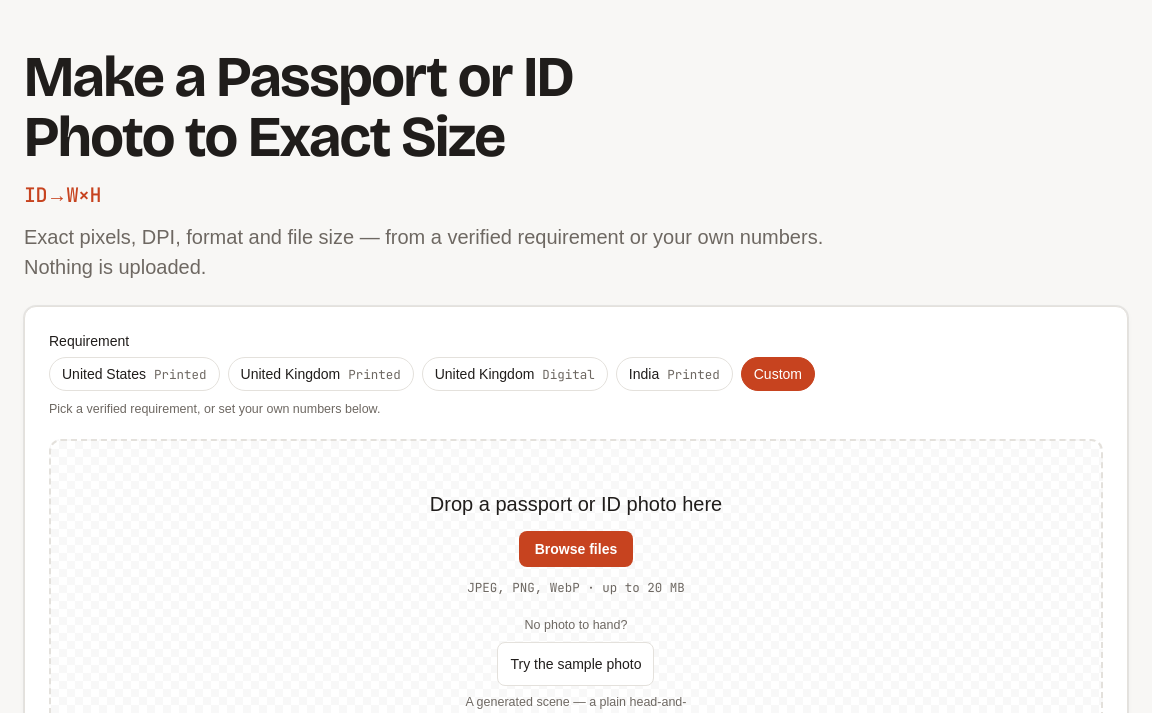
Test: the preset chip fills the fields › fills width, height, unit, DPI and format from a physical preset
What coordinates should you click on to do the following:
click the button "United Kingdom Printed"
I would click on:
 (321, 374)
Its box is [228,357,414,391].
(page scrolled)
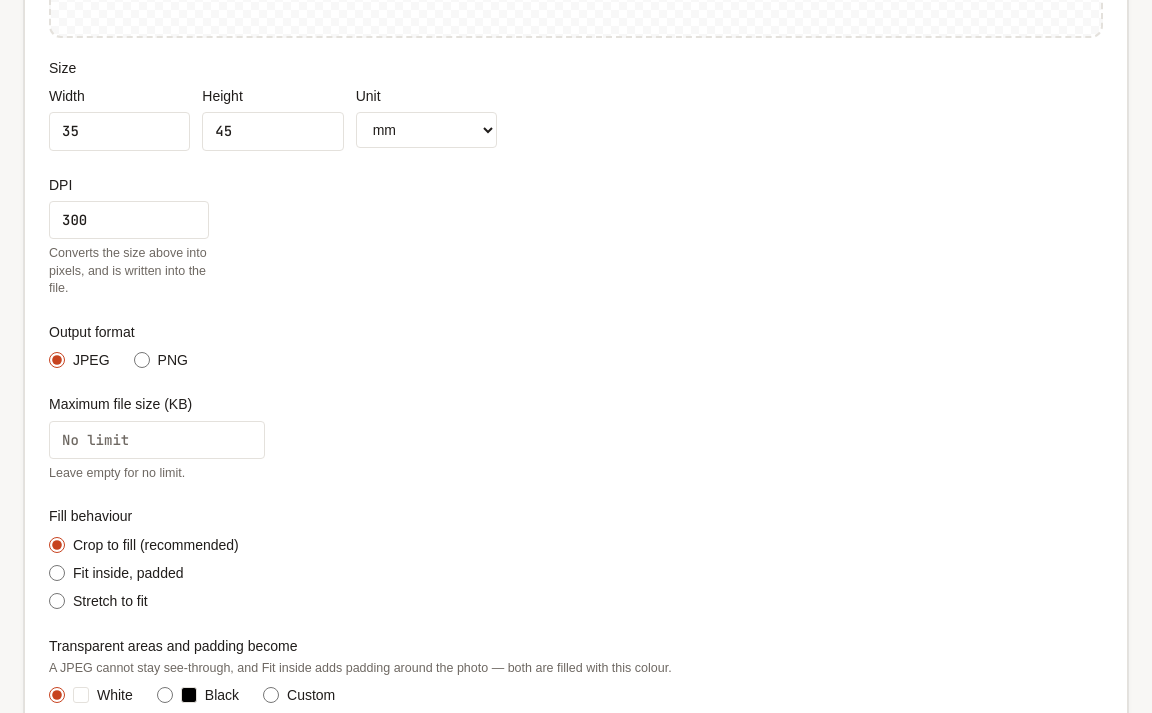
Expected: the number field labelled "Width" holds "35", [49,112,190,151]
Expected: the number field labelled "Height" holds "45", [202,112,344,151]
Expected: the dropdown labelled "Unit" shows "mm", [356,112,497,148]
